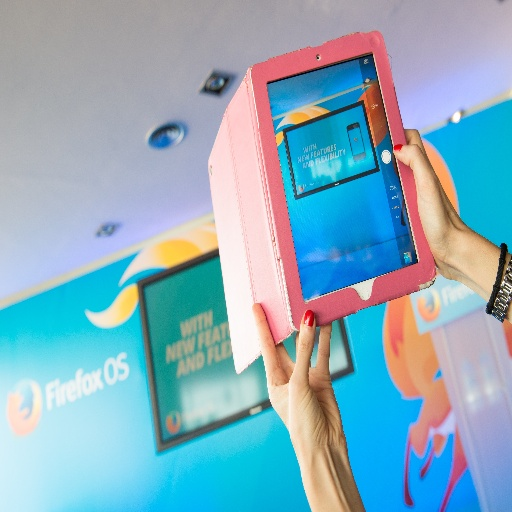hand: (260, 320, 363, 482), (390, 127, 462, 279)
